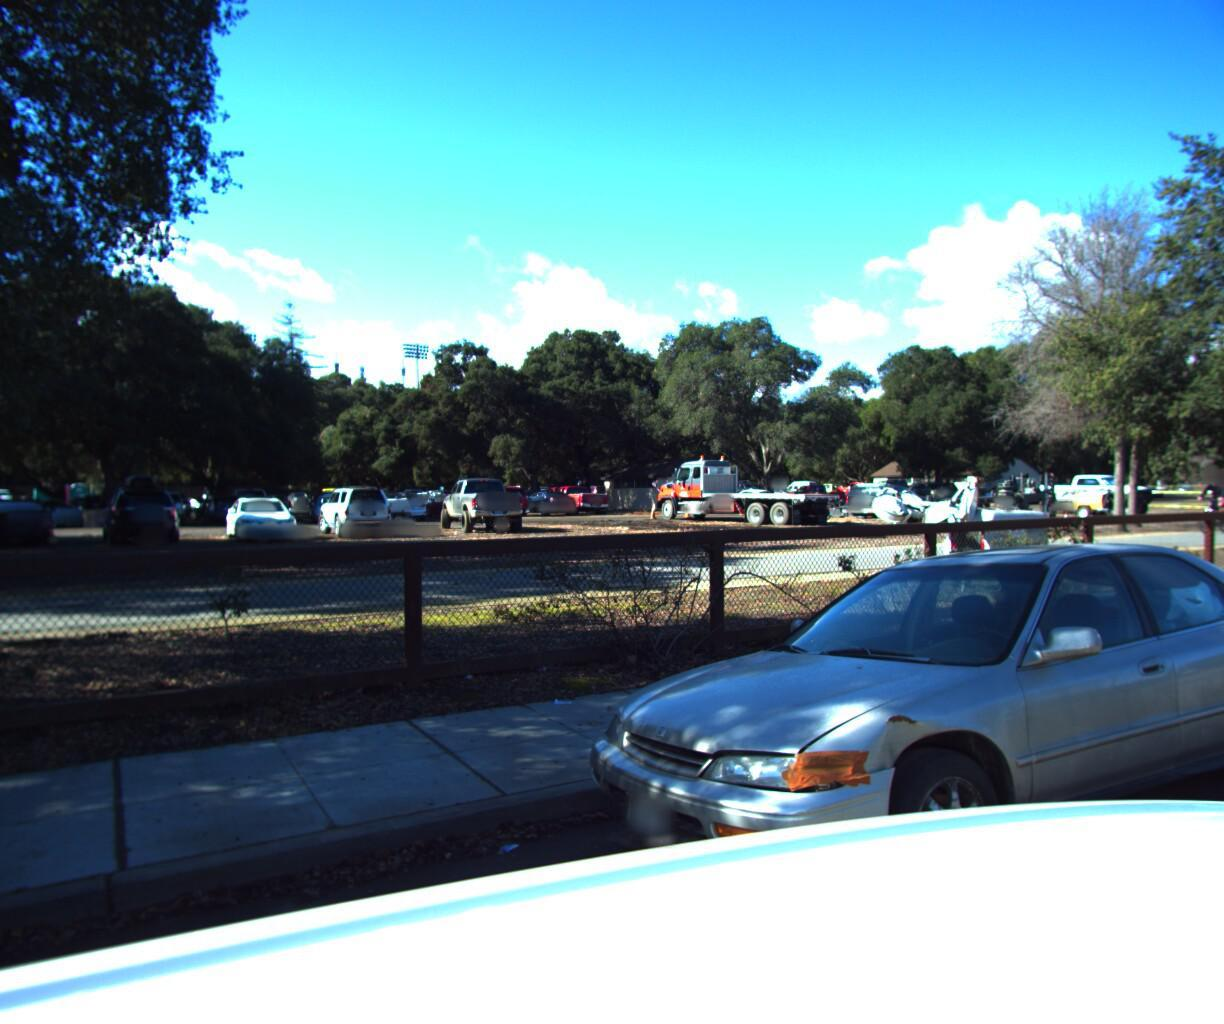car: (521, 520, 1224, 1024)
other_vehicle: (1209, 290, 1224, 711)
